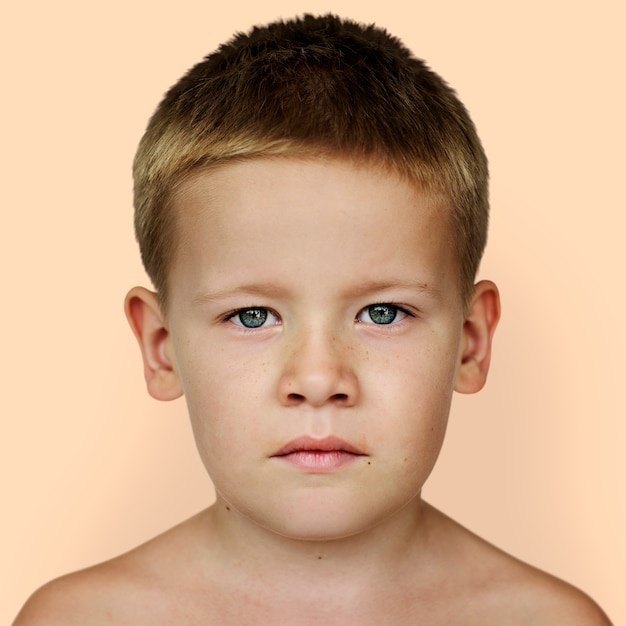teen: (146, 61, 499, 554)
